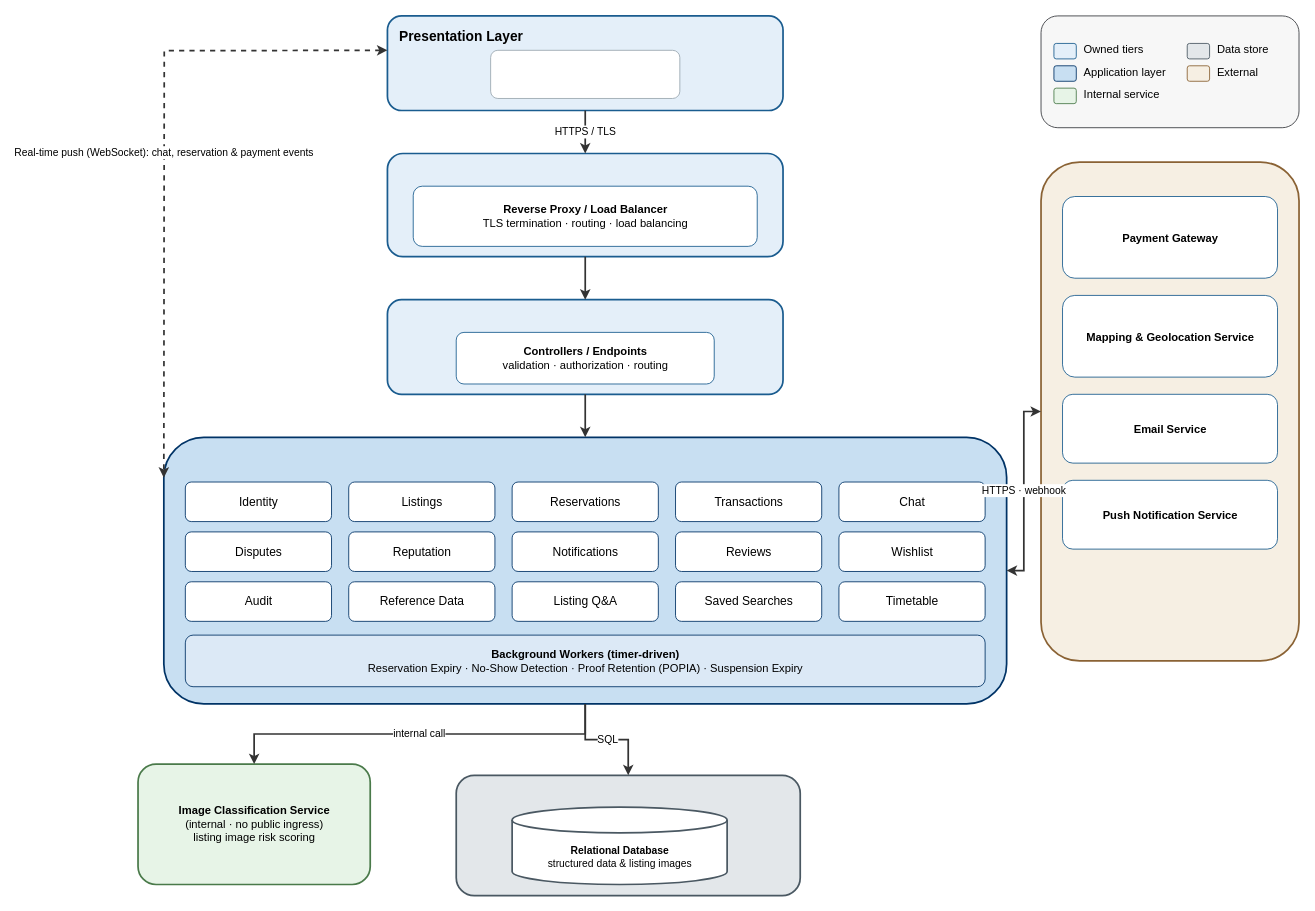
Image size: 1315x911. Some labels were removed from this diagram. The shapes that lost their labels are listed below. From the top down, each one's box as (x1, y1, x2, y2) in pixels, then its label:
(490, 49, 680, 98): Web App (PWA) single responsive client
(1040, 15, 1299, 128): Legend
(386, 152, 783, 257): Edge Layer
(386, 298, 783, 395): API Layer
(1040, 161, 1299, 661): External Systems
(163, 436, 1007, 704): Application Layer (Modular Monolith)
(455, 774, 801, 896): Data & Storage Layer
